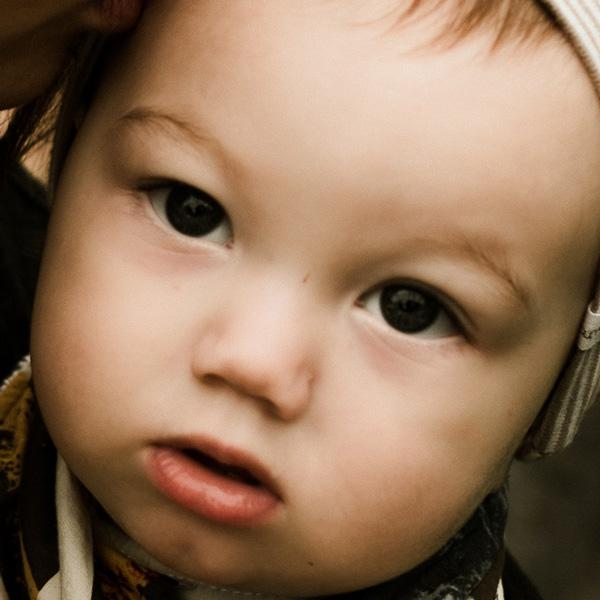Eyes: (346, 263, 477, 367), (118, 154, 241, 261)
